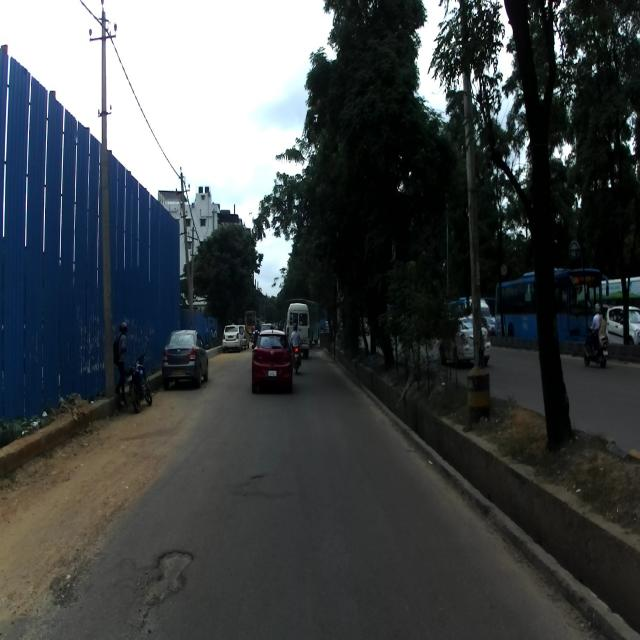Car_Hyundai: (251, 323, 293, 393)
Car_Toyota: (160, 328, 208, 390)
motorcycle: (126, 351, 153, 413)
